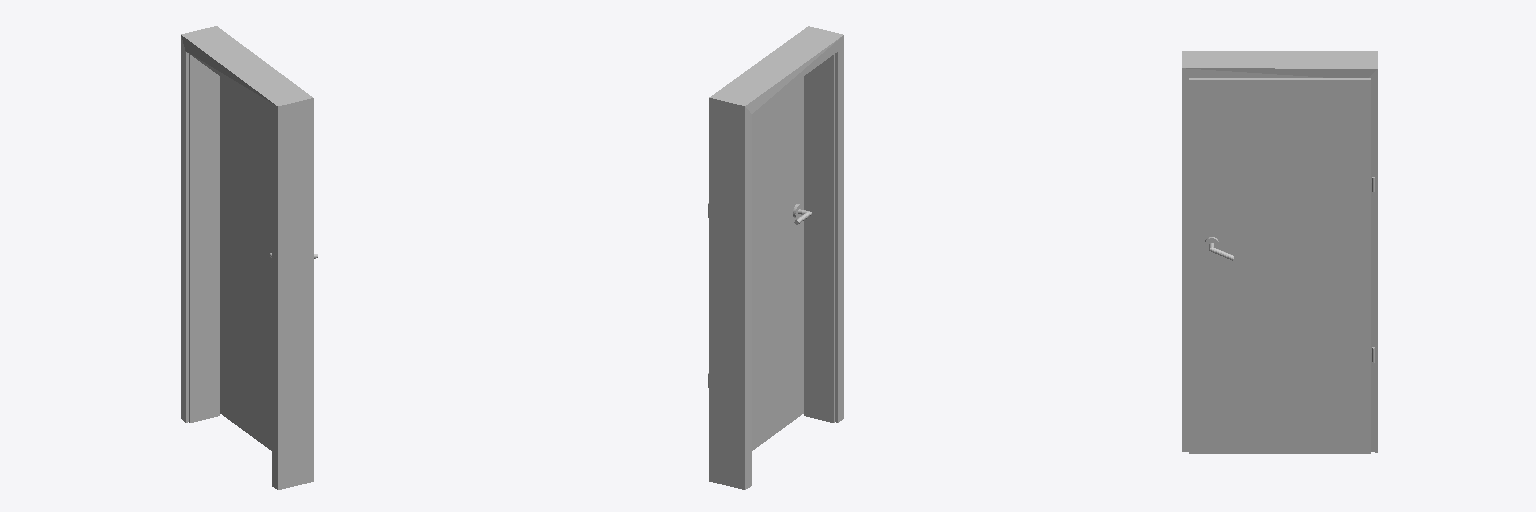
Rendered from door63.obj.
3 renders of one model, left to right at view 1: azimuth 30°, elevation 25°; view 2: azimuth 150°, elevation 25°; view 3: azimuth 270°, elevation 25°, orthographic.
Visible parts, largest first — view 1: Cylinder.005, Cylinder.001; view 2: Cylinder.005, Cylinder.001; view 3: Cylinder.001, Cylinder.005.
Part boxes in pixels (left/top/right/bottom): Cylinder.005: left=181, top=26, right=313, bottom=489; Cylinder.001: left=220, top=77, right=271, bottom=450; Cylinder.005: left=708, top=26, right=843, bottom=489; Cylinder.001: left=708, top=77, right=803, bottom=450; Cylinder.001: left=1189, top=78, right=1374, bottom=453; Cylinder.005: left=1182, top=51, right=1377, bottom=452.
Size of the model in its own units: 0.3039 by 2.05 by 0.95.